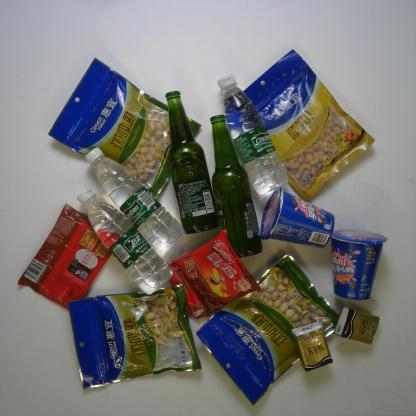Alcohol: (160, 88, 223, 230), (206, 111, 265, 261)
Dessert: (17, 202, 123, 316), (166, 231, 265, 322), (258, 183, 338, 251), (327, 226, 391, 302)
Dried Fruit: (194, 251, 349, 408), (47, 57, 201, 191), (235, 45, 372, 194), (65, 284, 204, 392)
Drink: (81, 145, 187, 256), (72, 183, 176, 296), (214, 72, 290, 200)
Tissue: (289, 321, 337, 375), (331, 301, 384, 346)
